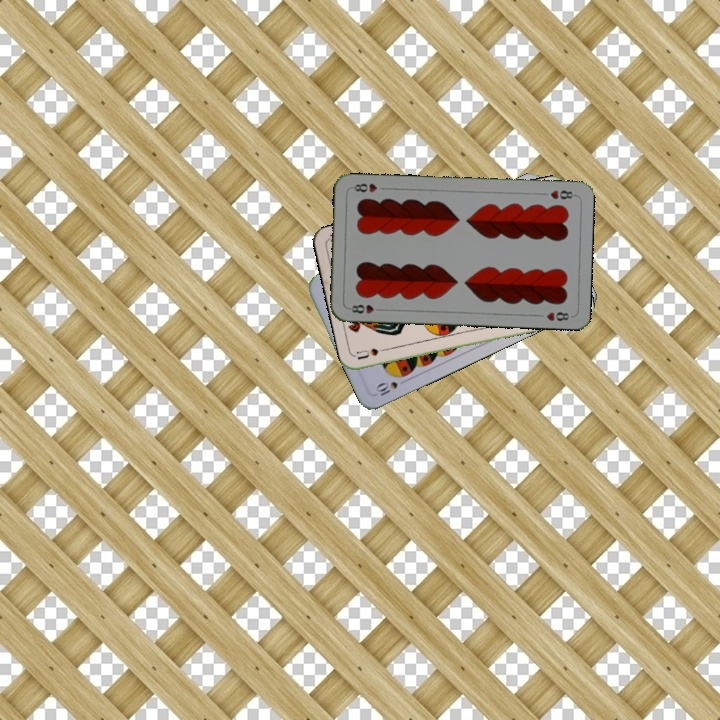H8: (345, 300, 385, 316), (546, 186, 578, 202)
S10: (371, 375, 410, 398)
SU: (353, 343, 394, 363)
